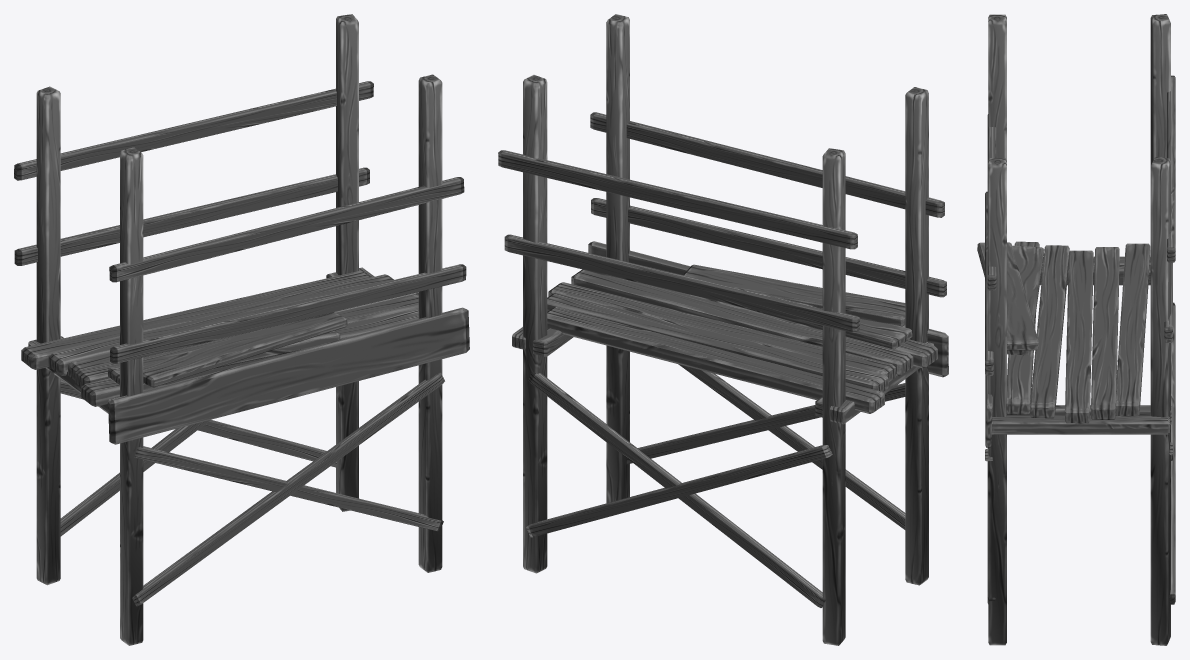
File: SM_Plateforme02_CORRIGE.FBX
The picture shows the model from 3 angles, left to right: view 1: azimuth 30°, elevation 25°; view 2: azimuth 150°, elevation 25°; view 3: azimuth 270°, elevation 25°; orthographic projection.
Parts seen in each view (by area): view 1: Plateforme02; view 2: Plateforme02; view 3: Plateforme02.
Boxes of the visible parts, x1=… form: Plateforme02: x1=14, y1=14, x2=469, y2=645; Plateforme02: x1=498, y1=14, x2=948, y2=645; Plateforme02: x1=977, y1=14, x2=1175, y2=645.
Size of the model in its own units: 397 by 506 by 189.
